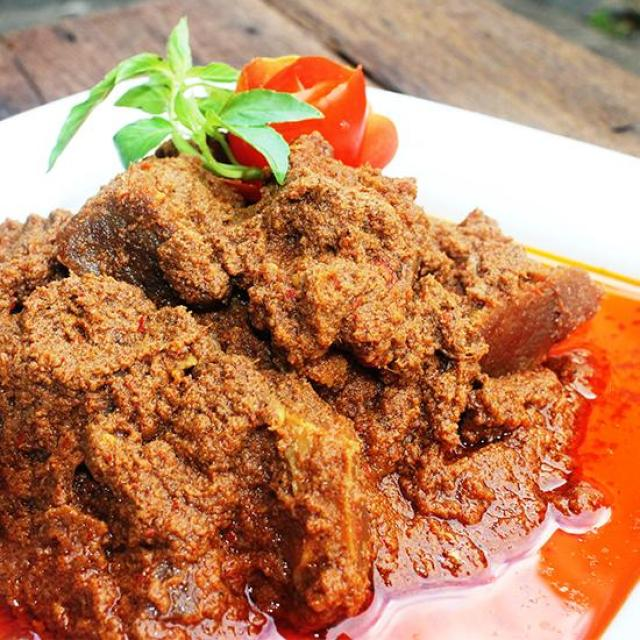Rendang: (0, 145, 577, 640)
